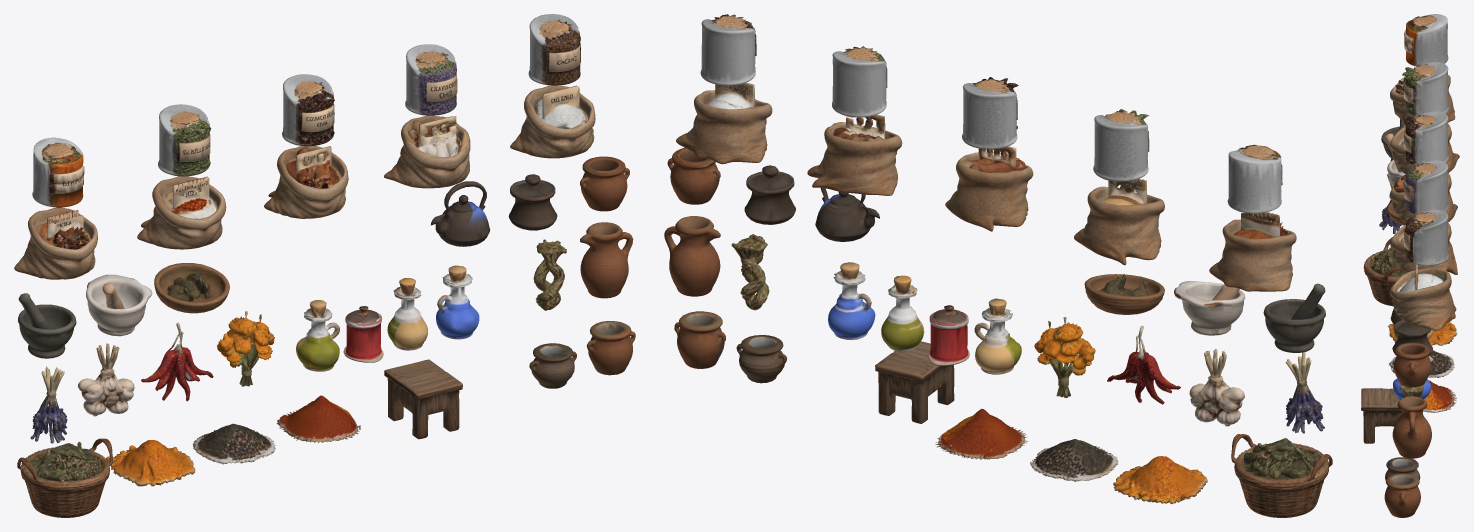
The model's file is tripo_convert_11419d3a-7fbb-4680-b54d-750838b54326.fbx.
3 renders of one model, left to right at view 1: azimuth 30°, elevation 25°; view 2: azimuth 150°, elevation 25°; view 3: azimuth 270°, elevation 25°, orthographic. The views are drawn at different scales.
Parts seen in each view (by area): view 1: tripo_part_4, tripo_part_10, tripo_part_8, tripo_part_33, tripo_part_9, tripo_part_0, tripo_part_20, tripo_part_14, tripo_part_1, tripo_part_16, tripo_part_13, tripo_part_25 (+21 smaller); view 2: tripo_part_4, tripo_part_33, tripo_part_8, tripo_part_10, tripo_part_9, tripo_part_0, tripo_part_20, tripo_part_1, tripo_part_14, tripo_part_16, tripo_part_13, tripo_part_5 (+21 smaller); view 3: tripo_part_8, tripo_part_16, tripo_part_1, tripo_part_14, tripo_part_13, tripo_part_25, tripo_part_5, tripo_part_20, tripo_part_4, tripo_part_2, tripo_part_28, tripo_part_33 (+14 smaller).
Part boxes in pixels (bbox=[...]): tripo_part_4: bbox=[17, 438, 112, 517]; tripo_part_10: bbox=[137, 176, 226, 249]; tripo_part_8: bbox=[510, 85, 595, 158]; tripo_part_33: bbox=[384, 115, 470, 188]; tripo_part_9: bbox=[264, 146, 348, 218]; tripo_part_0: bbox=[14, 207, 97, 279]; tripo_part_20: bbox=[384, 359, 462, 439]; tripo_part_14: bbox=[282, 74, 334, 146]; tripo_part_1: bbox=[158, 104, 211, 176]; tripo_part_16: bbox=[528, 14, 580, 85]; tripo_part_13: bbox=[405, 44, 457, 115]; tripo_part_25: bbox=[32, 137, 84, 207]; tripo_part_4: bbox=[1231, 434, 1332, 517]; tripo_part_33: bbox=[807, 114, 902, 195]; tripo_part_8: bbox=[676, 82, 772, 164]; tripo_part_10: bbox=[1074, 178, 1164, 265]; tripo_part_9: bbox=[945, 146, 1033, 231]; tripo_part_0: bbox=[1209, 212, 1296, 291]; tripo_part_20: bbox=[875, 341, 954, 423]; tripo_part_1: bbox=[1093, 109, 1149, 181]; tripo_part_14: bbox=[962, 77, 1018, 149]; tripo_part_16: bbox=[700, 14, 756, 85]; tripo_part_13: bbox=[832, 46, 887, 117]; tripo_part_5: bbox=[664, 216, 720, 296]; tripo_part_8: bbox=[1389, 264, 1456, 330]; tripo_part_16: bbox=[1404, 209, 1448, 265]; tripo_part_1: bbox=[1402, 62, 1448, 116]; tripo_part_14: bbox=[1404, 111, 1448, 165]; tripo_part_13: bbox=[1404, 160, 1448, 214]; tripo_part_25: bbox=[1404, 14, 1448, 66]; tripo_part_5: bbox=[1392, 395, 1431, 458]; tripo_part_20: bbox=[1361, 388, 1401, 443]; tripo_part_4: bbox=[1363, 237, 1406, 306]; tripo_part_2: bbox=[1393, 342, 1431, 387]; tripo_part_28: bbox=[1384, 473, 1420, 517]; tripo_part_33: bbox=[1390, 223, 1457, 274].
Bounding box in the file's own units: 98.06 × 16.6 × 52.39.
